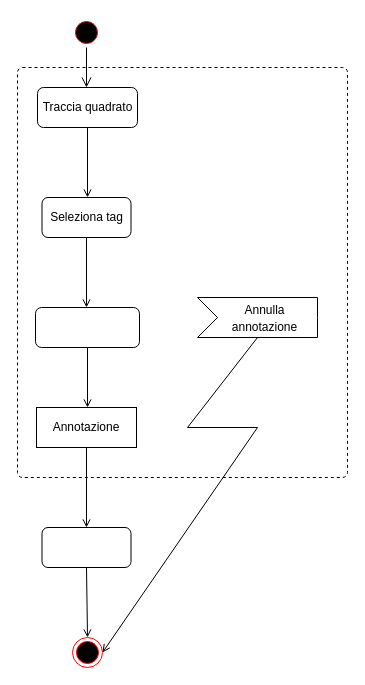
Some shapes in this 365 by 685 pixel diagram are drawn without their labels. The shapes that lost their labels are listed below. From the top down, each one's centre as x and y in pixels, then its label:
At point 87,327: "Inserisci valore".
At point 86,547: "Conferma".
